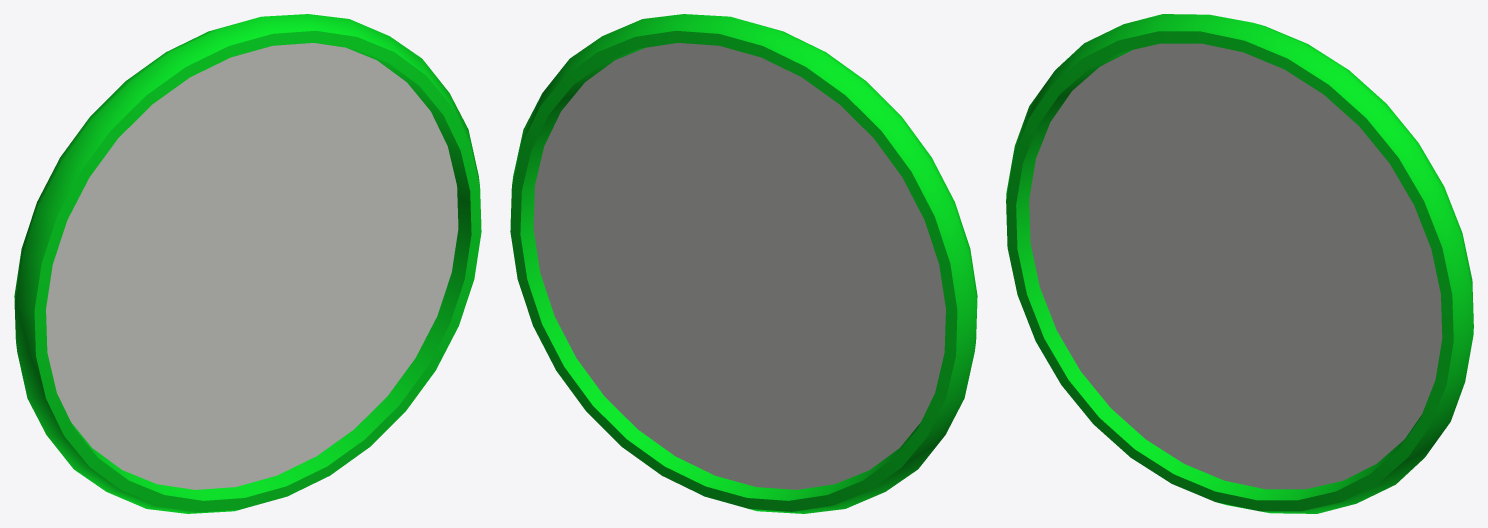
Rendered from gate_circle (1).fbx.
3 renders of one model, left to right at view 1: azimuth 30°, elevation 25°; view 2: azimuth 150°, elevation 25°; view 3: azimuth 330°, elevation 25°, orthographic.
Visible parts, largest first — view 1: Cylinder; view 2: Cylinder; view 3: Cylinder.
Part boxes in pixels (x1,y1,x2,y2): Cylinder: (14,14,481,513); Cylinder: (510,14,977,513); Cylinder: (1006,14,1473,513).
Size of the model in its own units: 1484 by 1484 by 119.
